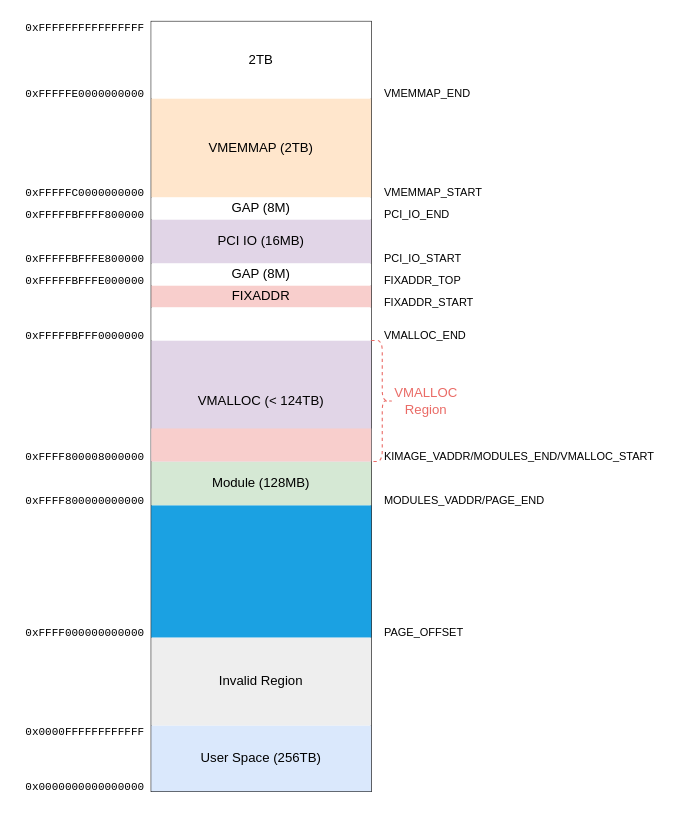
Image size: 673x813. Some labels were removed from this diagram. Each missing label, with the centre of its shape:
GAP: pixel 261 323
Kernel Image: pixel 261 444
Linear Mapping (128TB): pixel 261 571
